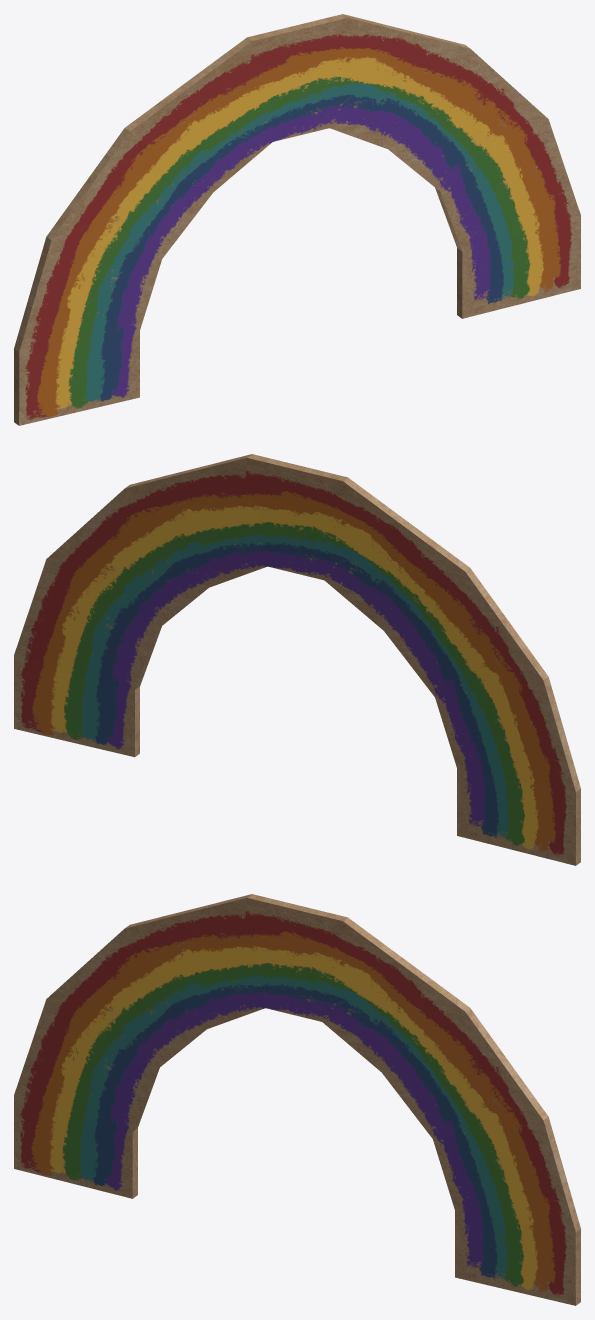
Rendered from GJ_arcEnCiel_mesh.fbx.
The picture shows the model from 3 angles, top to bottom: view 1: azimuth 30°, elevation 25°; view 2: azimuth 150°, elevation 25°; view 3: azimuth 330°, elevation 25°; orthographic projection.
Visible parts, largest first — view 1: Cube; view 2: Cube; view 3: Cube.
Boxes of the visible parts, x1,y1,x2,y2 form: Cube: (14,14,580,425); Cube: (14,454,580,865); Cube: (14,894,580,1305).
Bounding box in the file's own units: 728 × 406 × 14.01.
